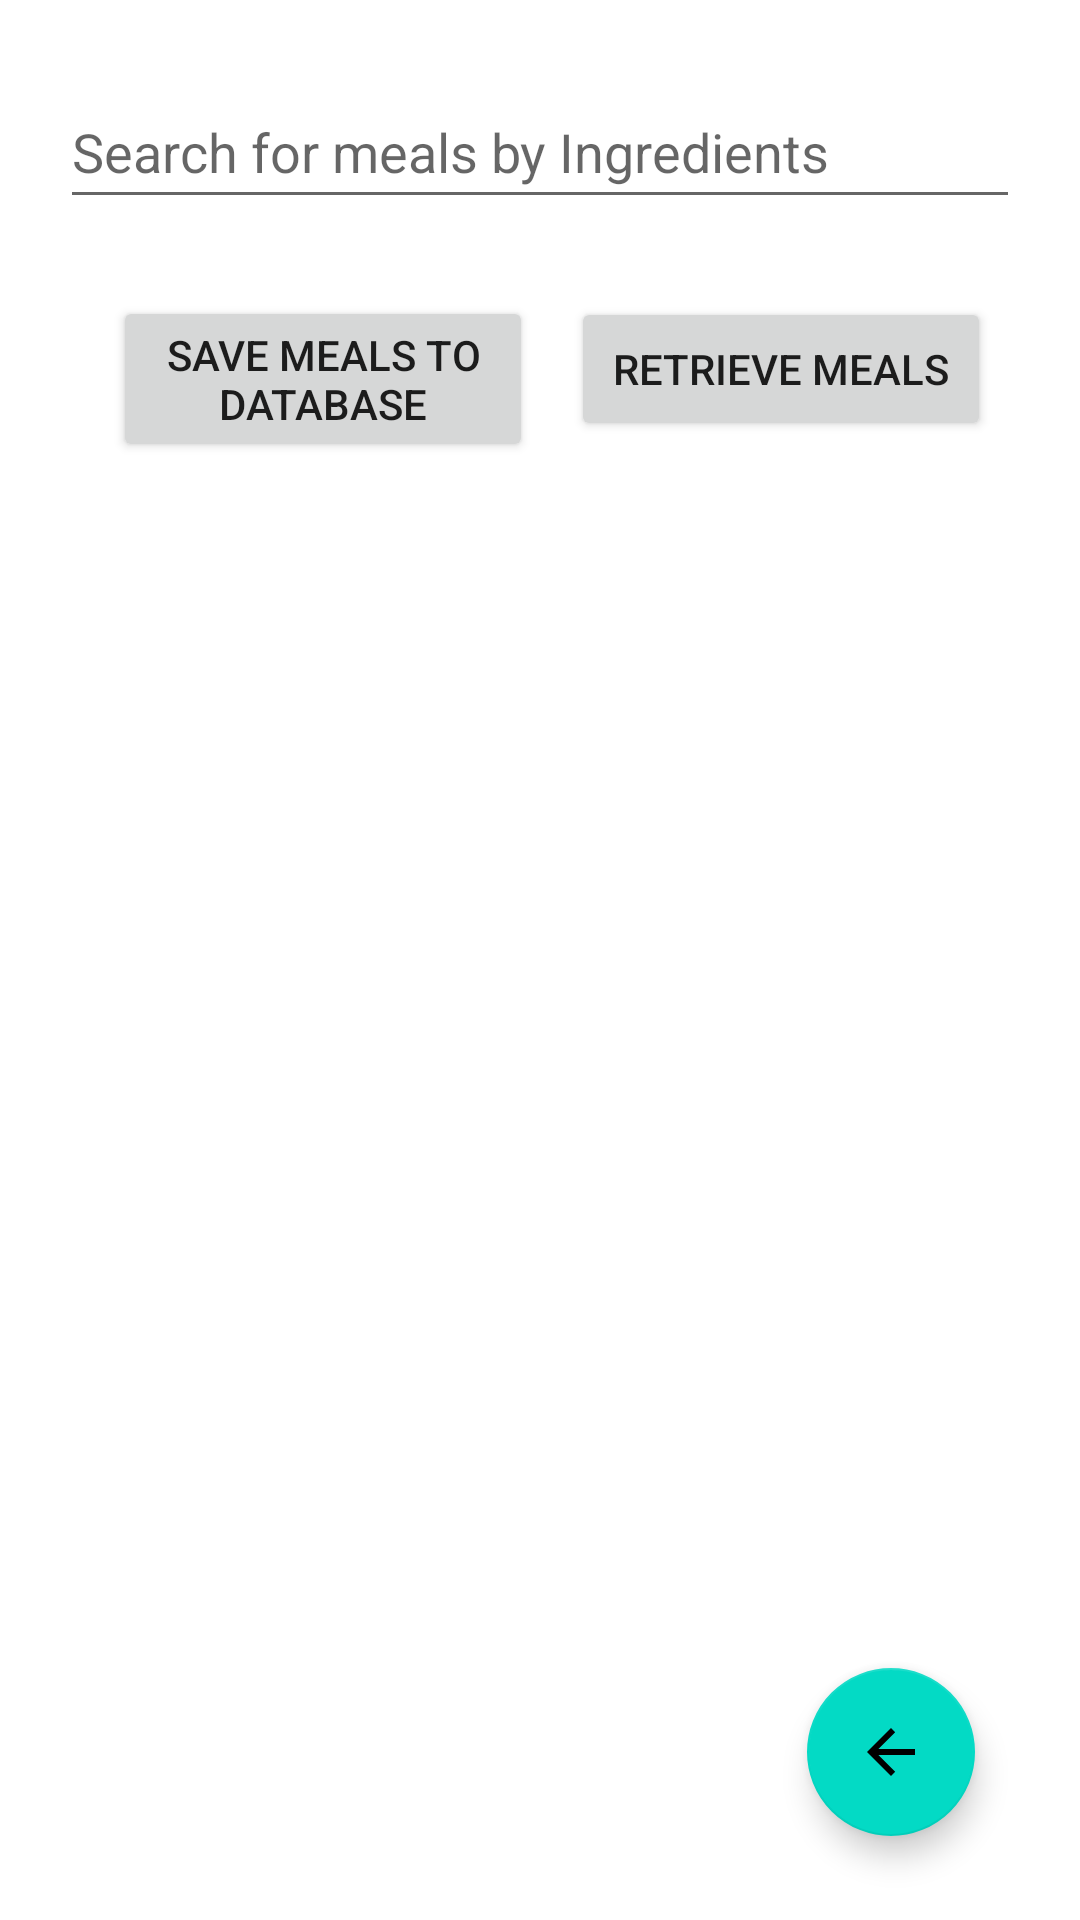

Icon bounding boxes for this 1080×1920 phone screenshot, format (x1, y1, x2, y2):
back: (807, 1668, 975, 1836)
